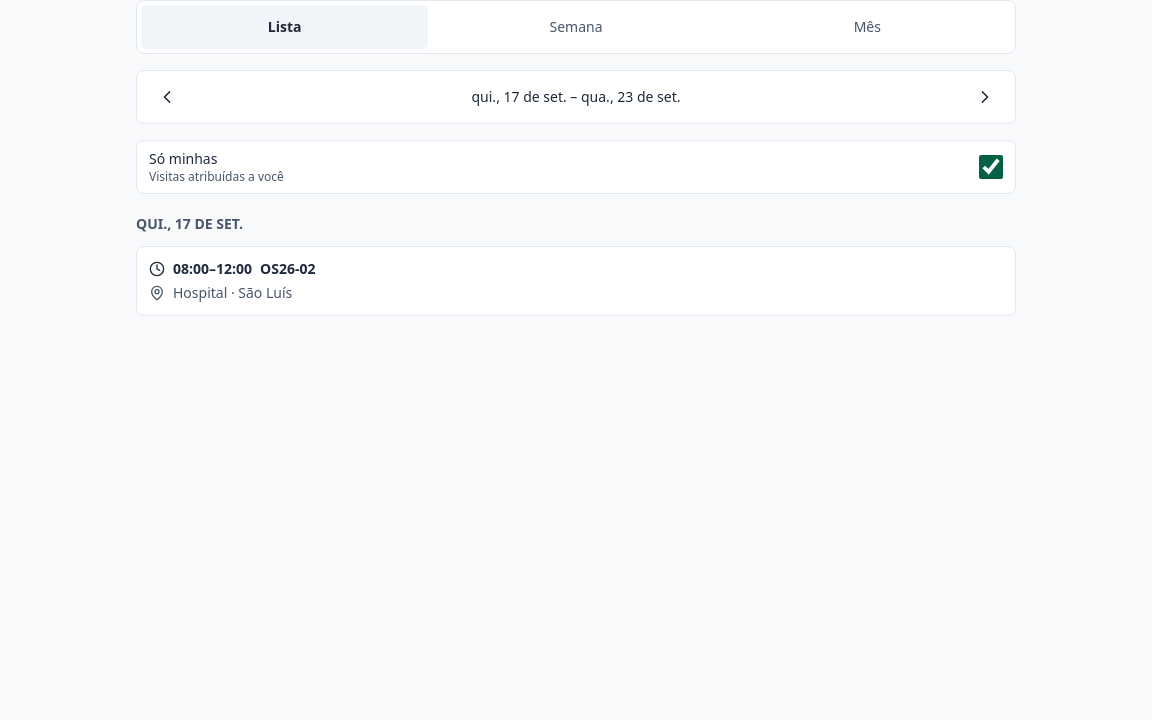
Scenario: Modo Mês › não-gestor (can_manage: false) não vê o gesto de ajuste
The width and height of the screenshot is (1152, 720).
Click the button "Mês".
click(867, 27)  # box [724, 5, 1011, 49]
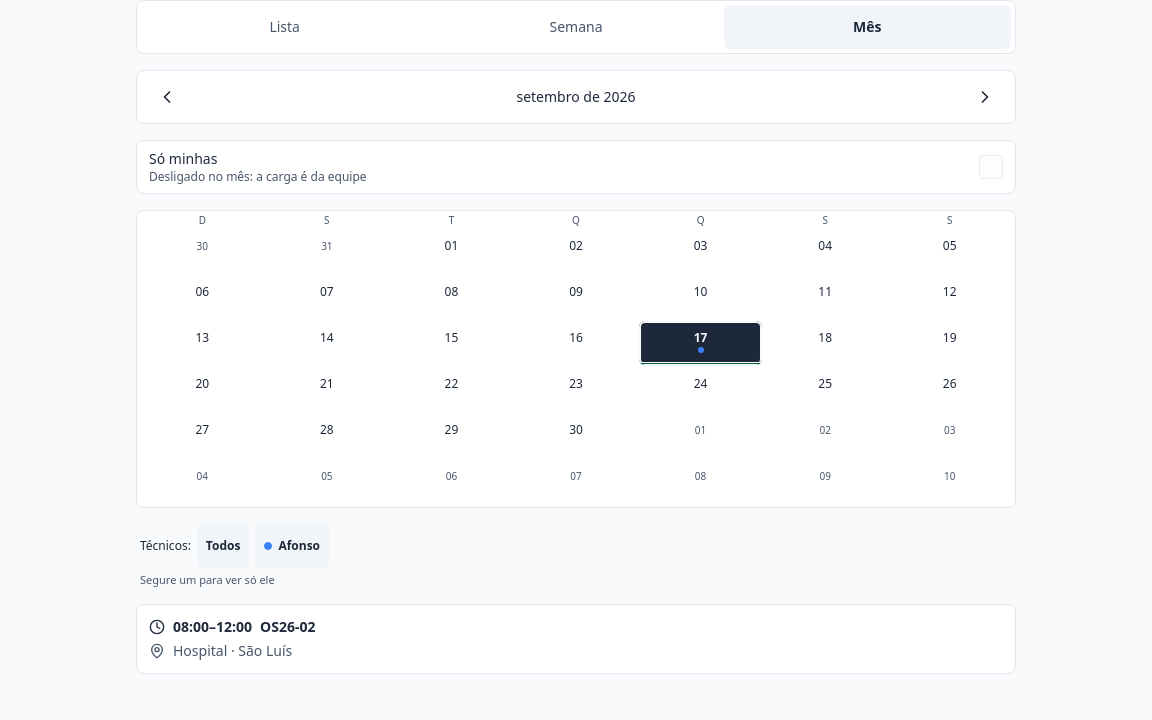
Check: the text "OS26-02" is shown, box [260, 617, 316, 637]
Check: the text "setembro de 2026" is shown, box [516, 87, 636, 107]
